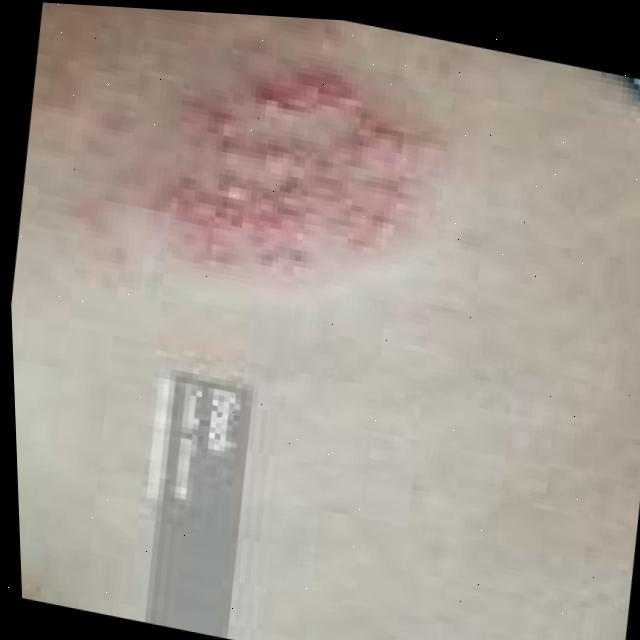Shingles: (175, 63, 449, 301)
